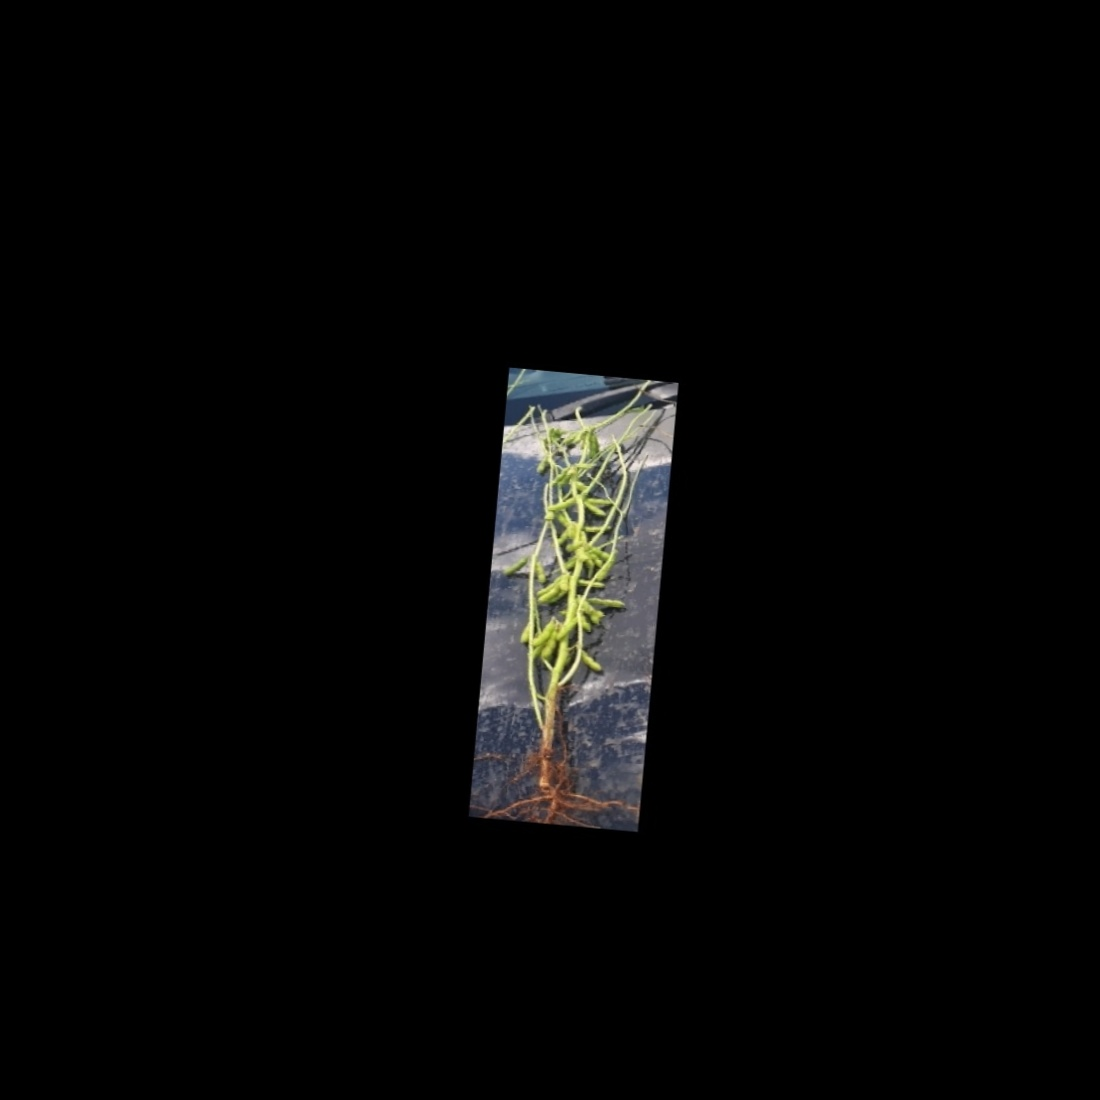pod: (543, 491, 582, 515), (529, 618, 558, 650), (577, 496, 611, 522), (539, 627, 562, 661), (585, 593, 629, 611), (500, 555, 531, 579), (578, 647, 605, 674), (571, 458, 599, 473), (534, 452, 551, 476)
soy: (478, 403, 660, 803)
